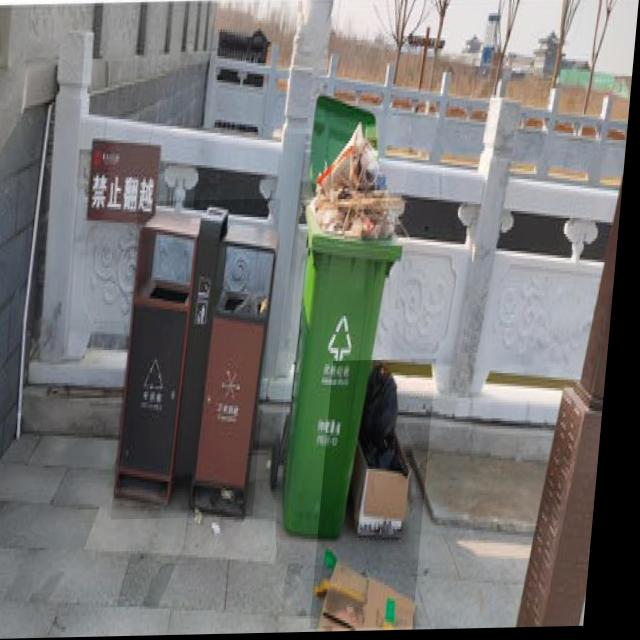garbage: (321, 361, 443, 631)
garbage_bin: (120, 200, 285, 520)
overflow: (282, 118, 414, 536)
